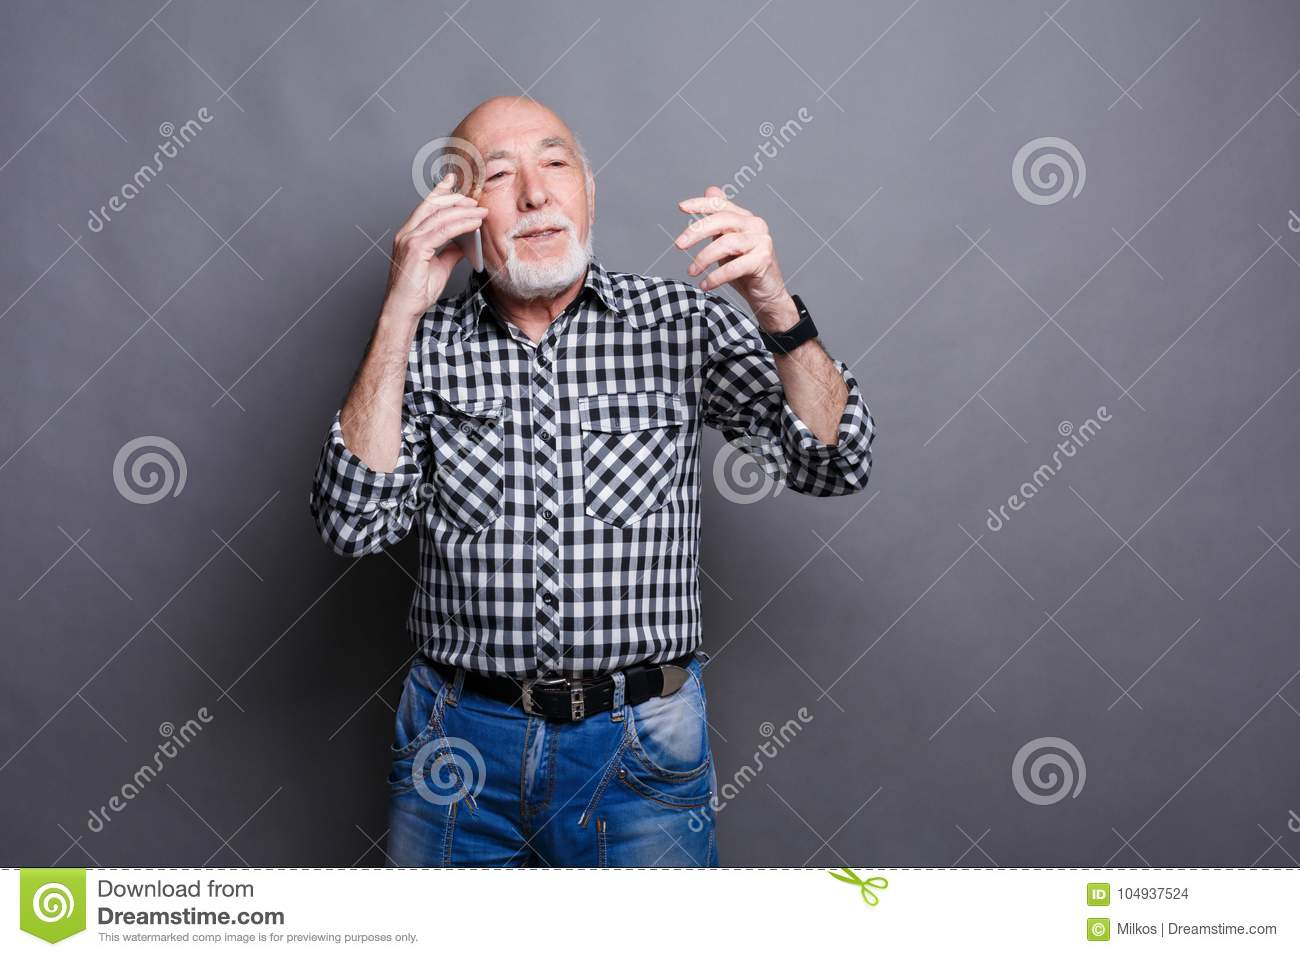phone: (438, 197, 490, 278)
talk: (377, 125, 591, 321)
